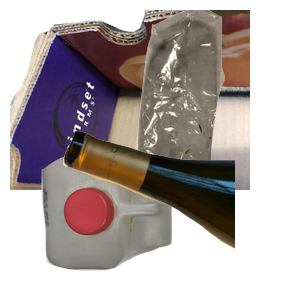cardboard: (10, 10, 250, 190)
glass: (60, 128, 300, 300)
plastic: (39, 149, 203, 300)
trash: (114, 10, 300, 190)
